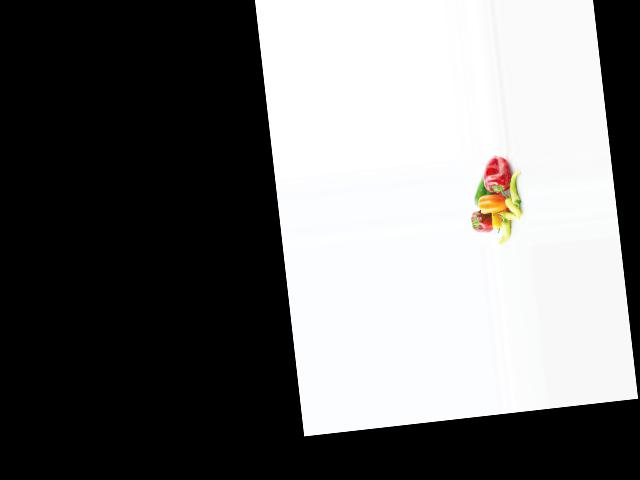bell_pepper: (508, 168, 524, 210)
